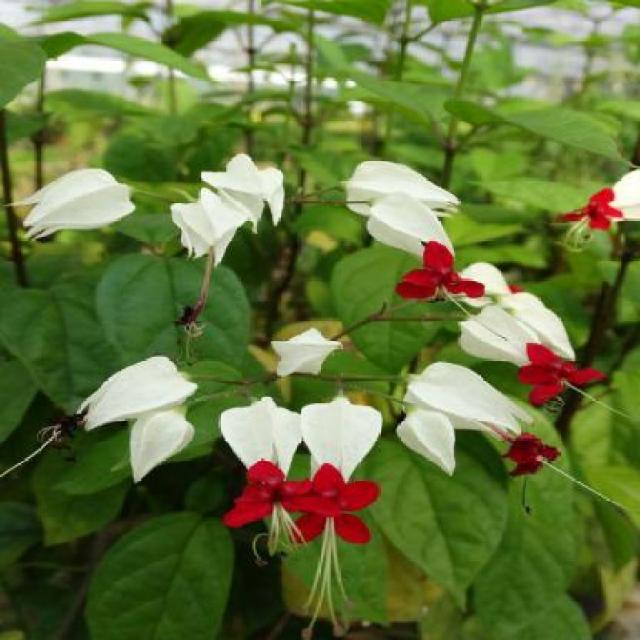flower: (378, 263, 591, 375), (75, 345, 197, 483), (342, 158, 481, 252), (414, 359, 544, 447), (228, 387, 303, 538), (17, 168, 145, 240), (310, 388, 401, 489), (206, 151, 300, 231), (186, 183, 263, 268), (268, 319, 337, 367)
